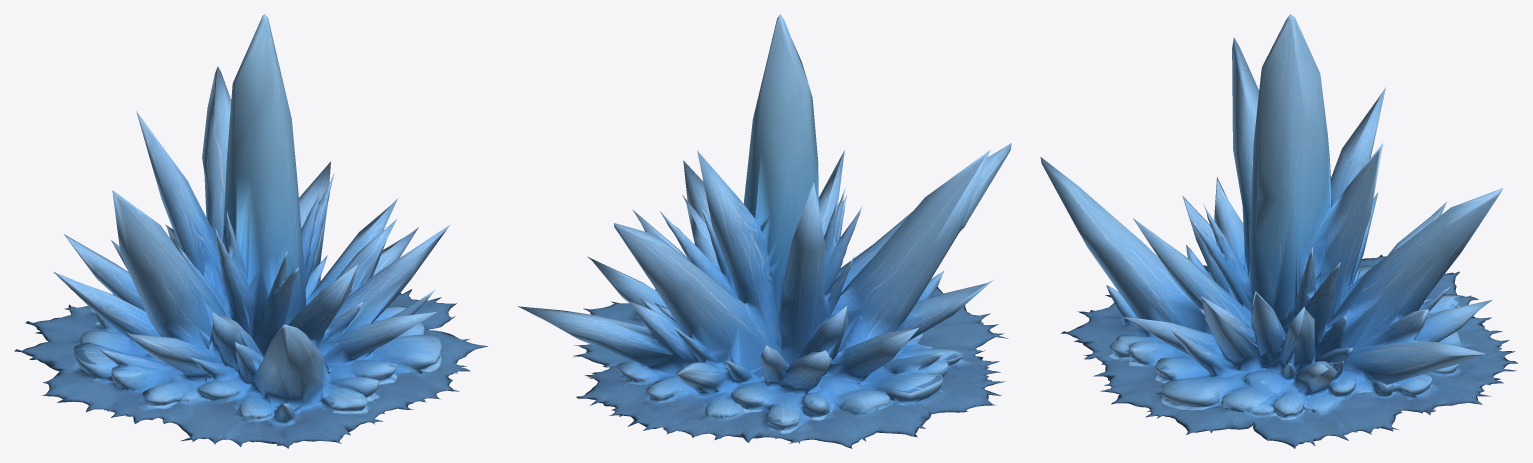
Rendered from Tripo_IceCluster_raw.fbx.
The picture shows the model from 3 angles, left to right: view 1: azimuth 30°, elevation 25°; view 2: azimuth 150°, elevation 25°; view 3: azimuth 270°, elevation 25°; orthographic projection.
Parts seen in each view (by area): view 1: tripo_node_1280591e; view 2: tripo_node_1280591e; view 3: tripo_node_1280591e.
Part boxes in pixels (x1,y1,x2,y2): tripo_node_1280591e: [14, 14, 487, 448]; tripo_node_1280591e: [518, 14, 1011, 448]; tripo_node_1280591e: [1040, 14, 1518, 448].
Size of the model in its own units: 0.998 by 0.8184 by 0.9941.
1 material, 1 textured.
